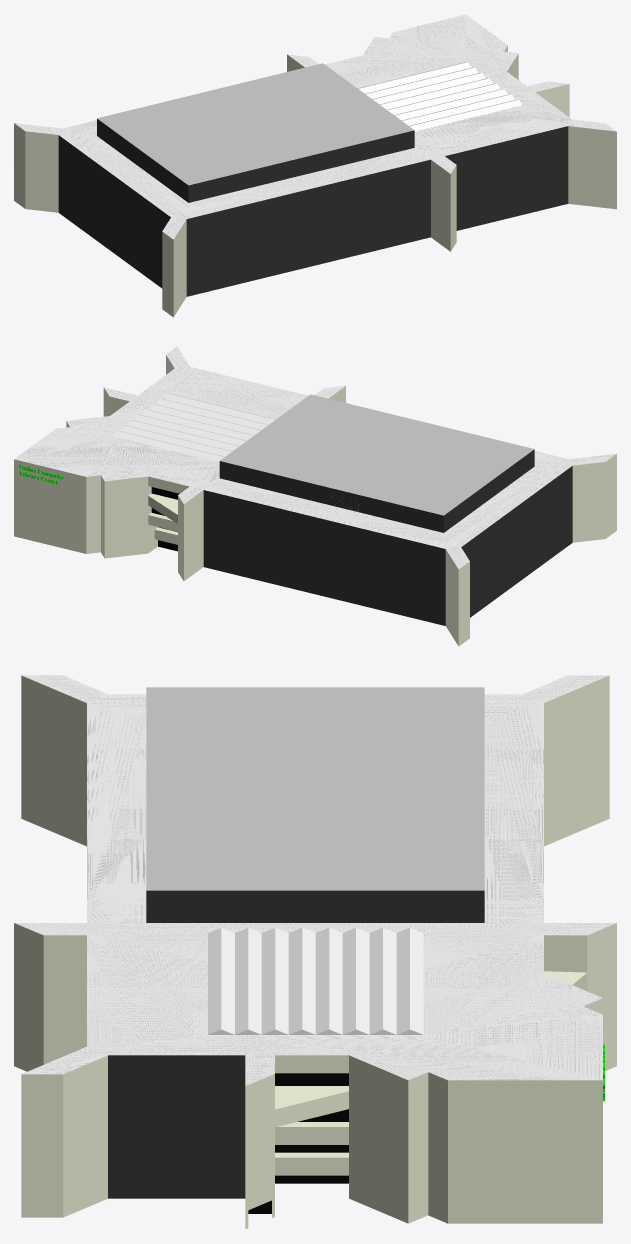
File: OCLC Building.dae
3 views of the same model, one above another, from view 1: azimuth 30°, elevation 25°; view 2: azimuth 150°, elevation 25°; view 3: azimuth 270°, elevation 25° (orthographic). The views are drawn at different scales.
Visible parts, largest first — view 1: SketchUp (×12); view 2: SketchUp (×9); view 3: SketchUp (×11).
Part boxes in pixels (x1,y1,x2,y2): SketchUp (×12): (14,14,616,317); SketchUp (×9): (14,346,616,646); SketchUp (×11): (14,675,616,1229).
Size of the model in its own units: 5900 by 3660 by 1176.
